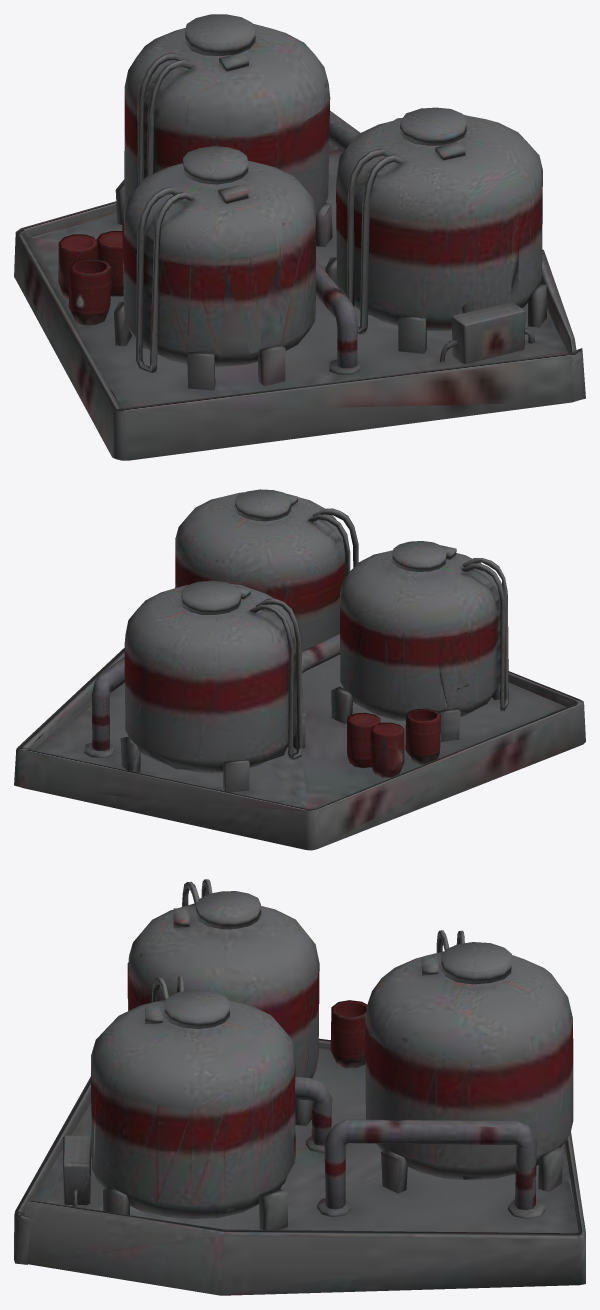
Rendered from depot.glb.
3 views of the same model, one above another, from view 1: azimuth 30°, elevation 25°; view 2: azimuth 150°, elevation 25°; view 3: azimuth 270°, elevation 25° (orthographic). The views are drawn at different scales.
Parts seen in each view (by area): view 1: hull; view 2: hull; view 3: hull.
Boxes of the visible parts, left/top/right/bottom form: hull: left=14, top=14, right=585, bottom=460; hull: left=14, top=489, right=585, bottom=850; hull: left=14, top=879, right=585, bottom=1295.
Bounding box in the file's own units: 0.9806 × 0.4642 × 1.
1 material, 1 textured.
